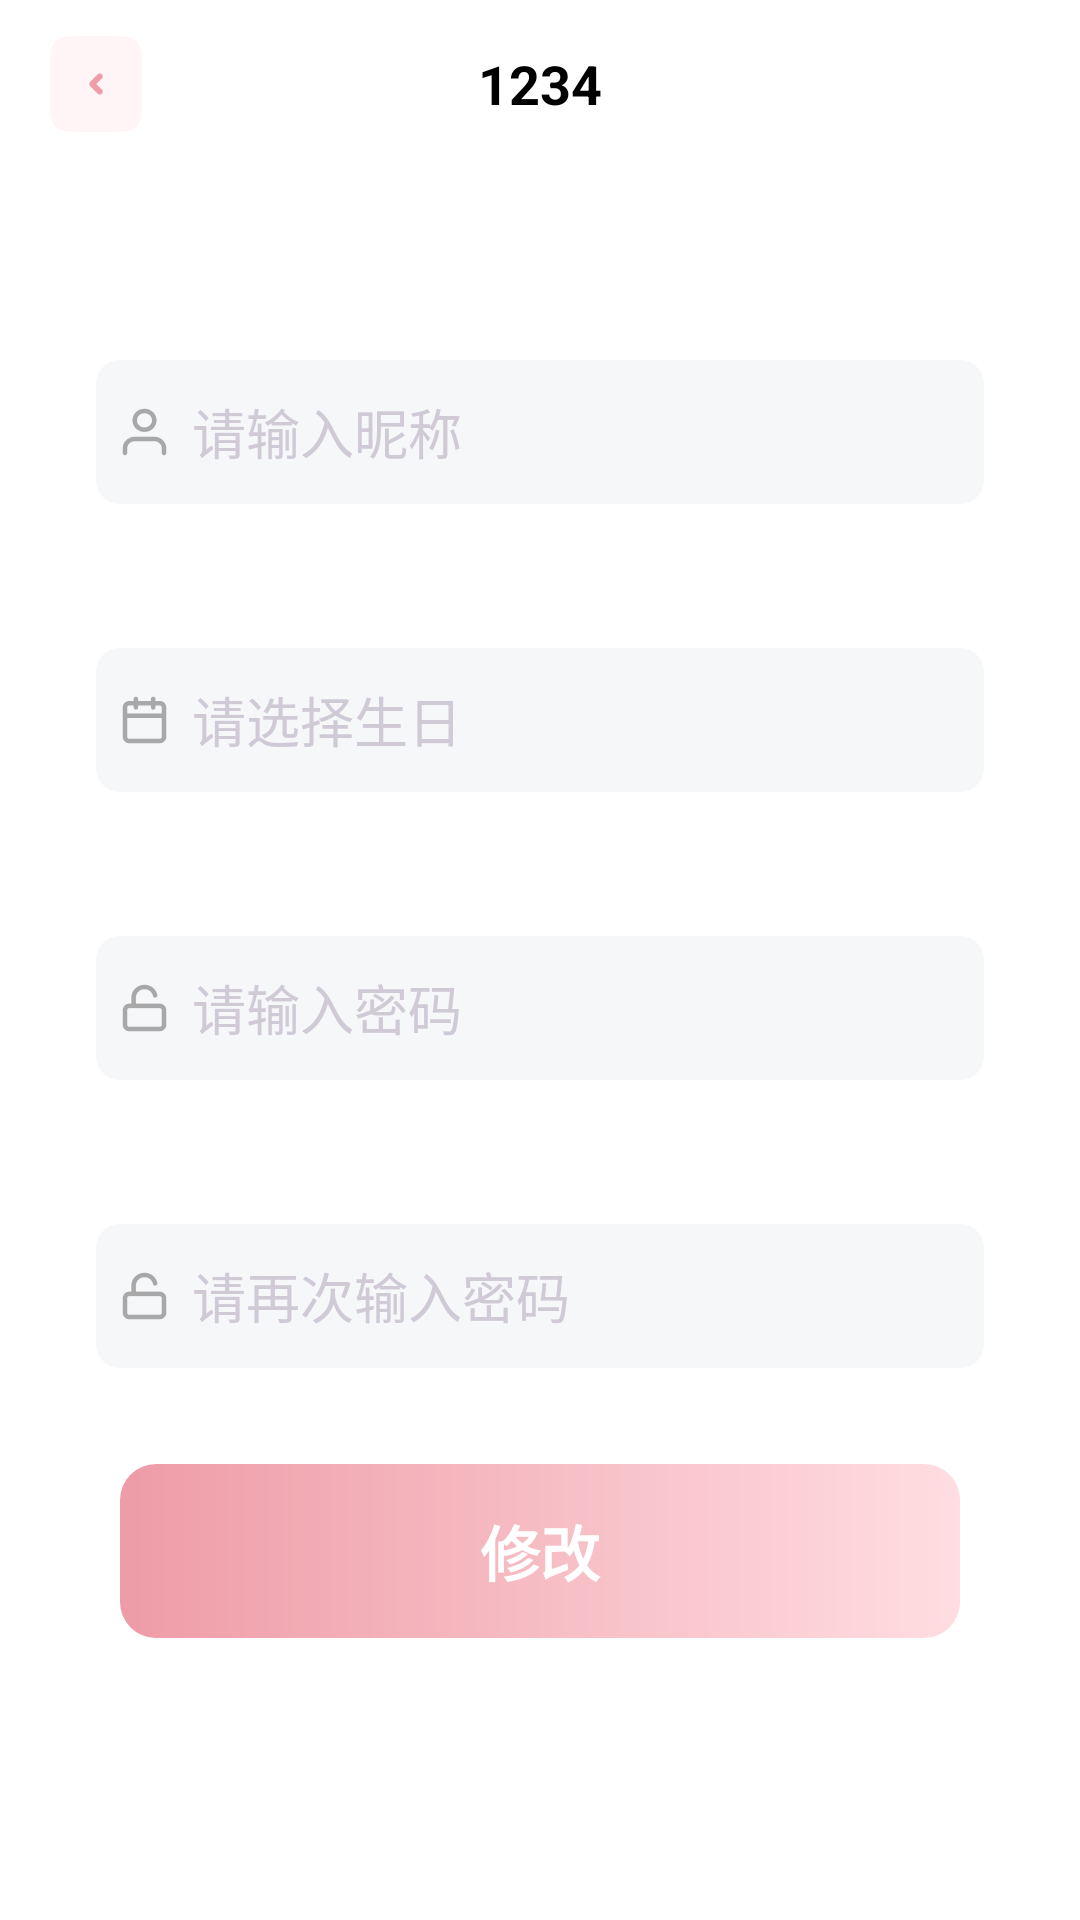

Screen size 1080w x 1920h. Icon name, then its box in pixels as (x1, y1, x2, y2):
login account: (123, 409, 166, 455)
login birthdate: (123, 697, 166, 743)
login pwd: (123, 985, 166, 1031), (123, 1273, 166, 1319)
